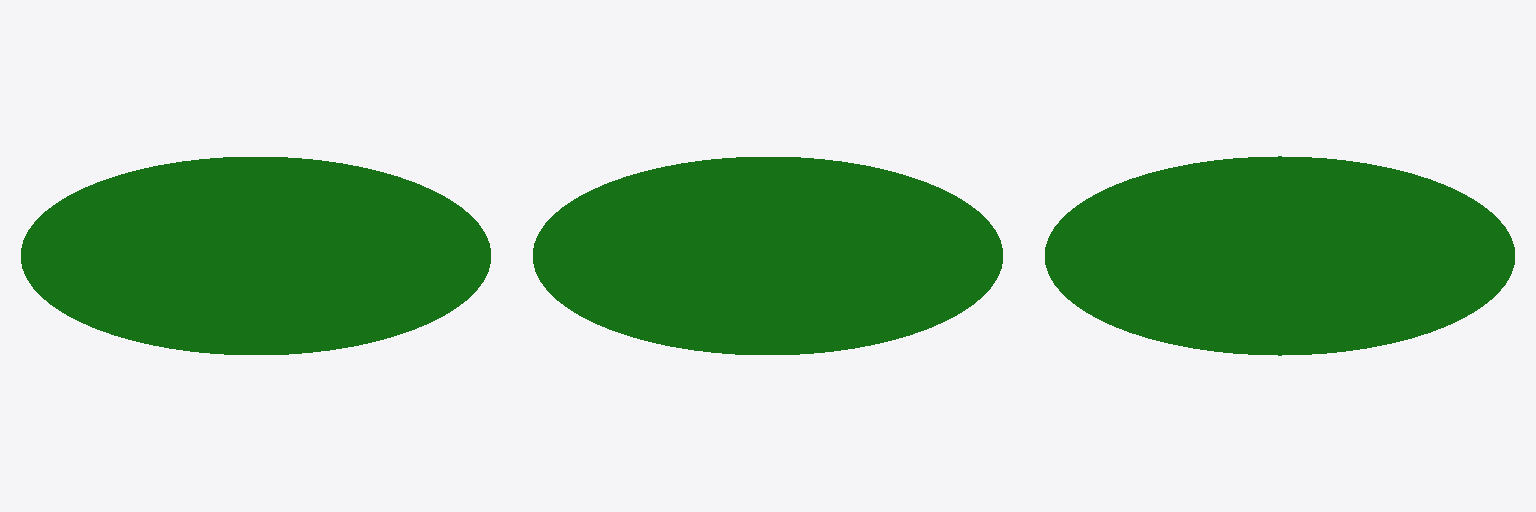
The model's file is circle-tan.obj.
3 views of the same model, side by side, from view 1: azimuth 30°, elevation 25°; view 2: azimuth 150°, elevation 25°; view 3: azimuth 270°, elevation 25° (orthographic).
Parts seen in each view (by area): view 1: Circle_Circle.001; view 2: Circle_Circle.001; view 3: Circle_Circle.001.
Part boxes in pixels (left/top/right/bottom): Circle_Circle.001: left=21, top=157, right=490, bottom=354; Circle_Circle.001: left=533, top=157, right=1002, bottom=354; Circle_Circle.001: left=1045, top=156, right=1514, bottom=355.
Bounding box in the file's own units: 2 × 0 × 2.